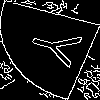Y: (25, 25, 95, 72)
